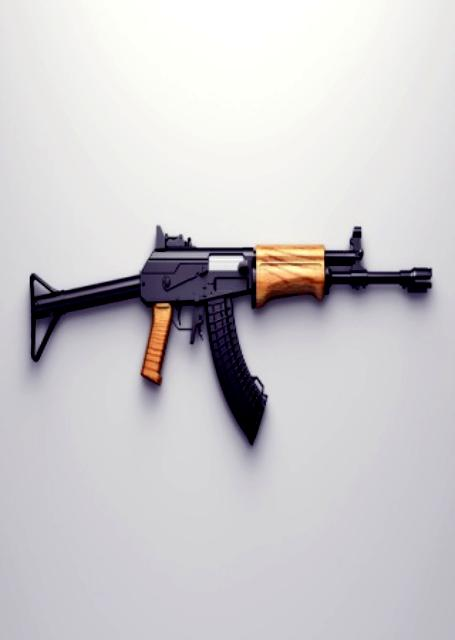rifle: (19, 208, 437, 446)
